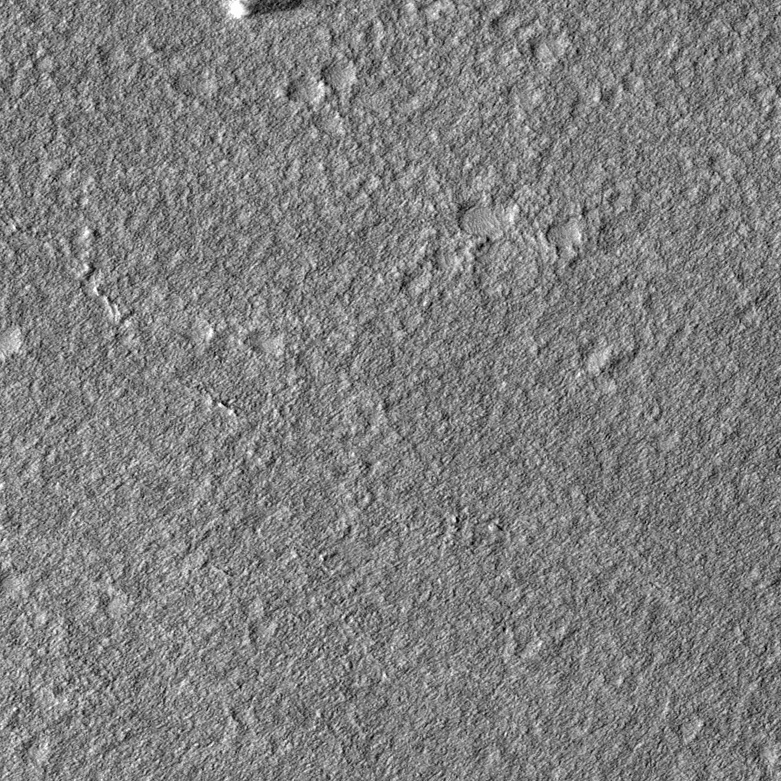dust_devil: (227, 1, 306, 19)
